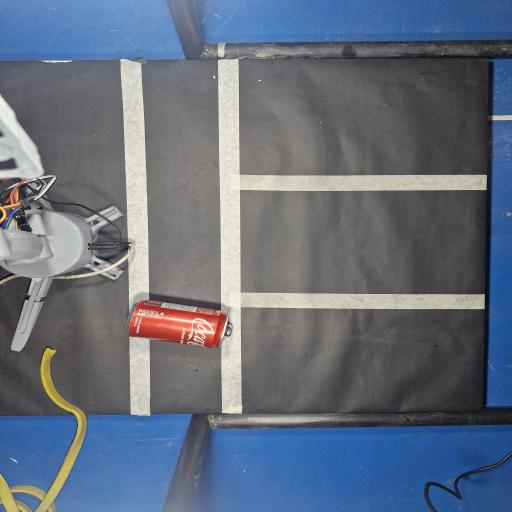lata: (126, 300, 231, 348)
